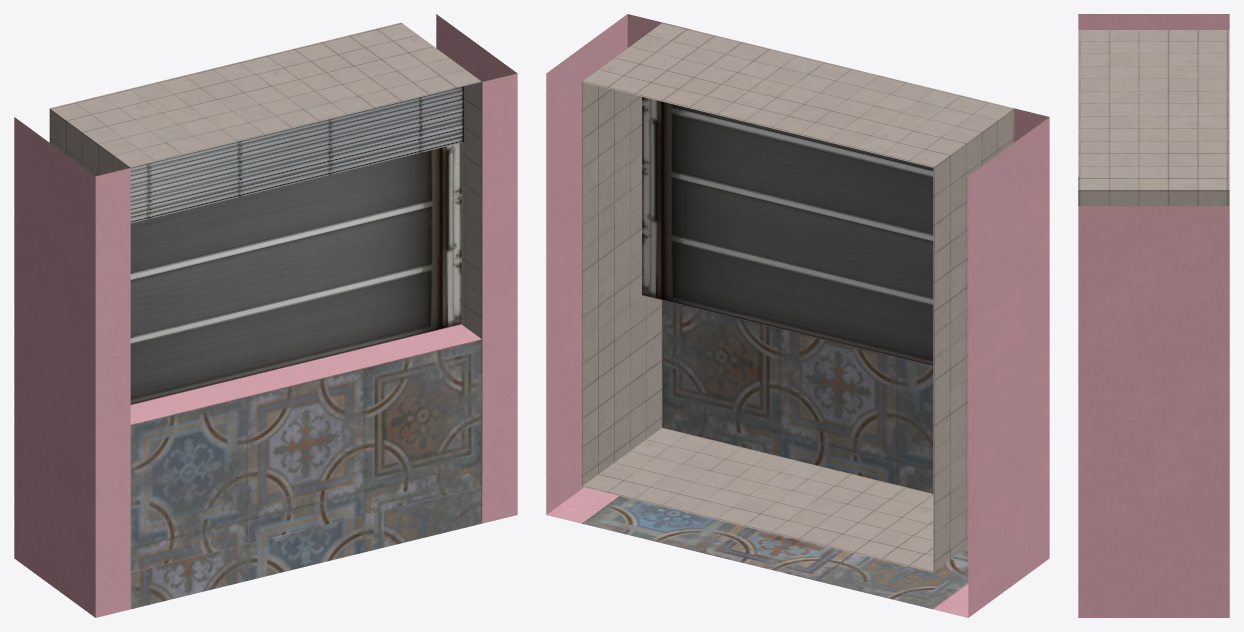
The model's file is Building A Window A5.fbx.
3 renders of one model, left to right at view 1: azimuth 30°, elevation 25°; view 2: azimuth 150°, elevation 25°; view 3: azimuth 270°, elevation 25°, orthographic. The views are drawn at different scales.
Visible parts, largest first — view 1: Building A Window A5 (2, Baked); view 2: Building A Window A5 (2, Baked); view 3: Building A Window A5 (2, Baked).
Boxes of the visible parts, <box> form: Building A Window A5 (2, Baked): <box>14,14,517,617</box>; Building A Window A5 (2, Baked): <box>546,14,1049,617</box>; Building A Window A5 (2, Baked): <box>1078,14,1229,617</box>.
Size of the model in its own units: 300 by 300 by 100.
